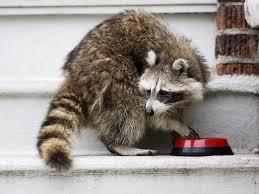raccoon: (38, 9, 211, 171)
